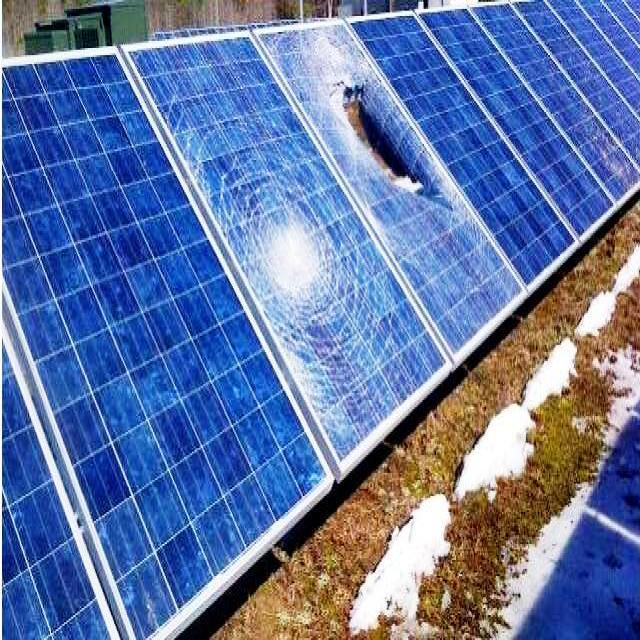faulty: (124, 34, 450, 466), (254, 20, 526, 360)
no faulty: (2, 48, 336, 638), (418, 5, 620, 246)
